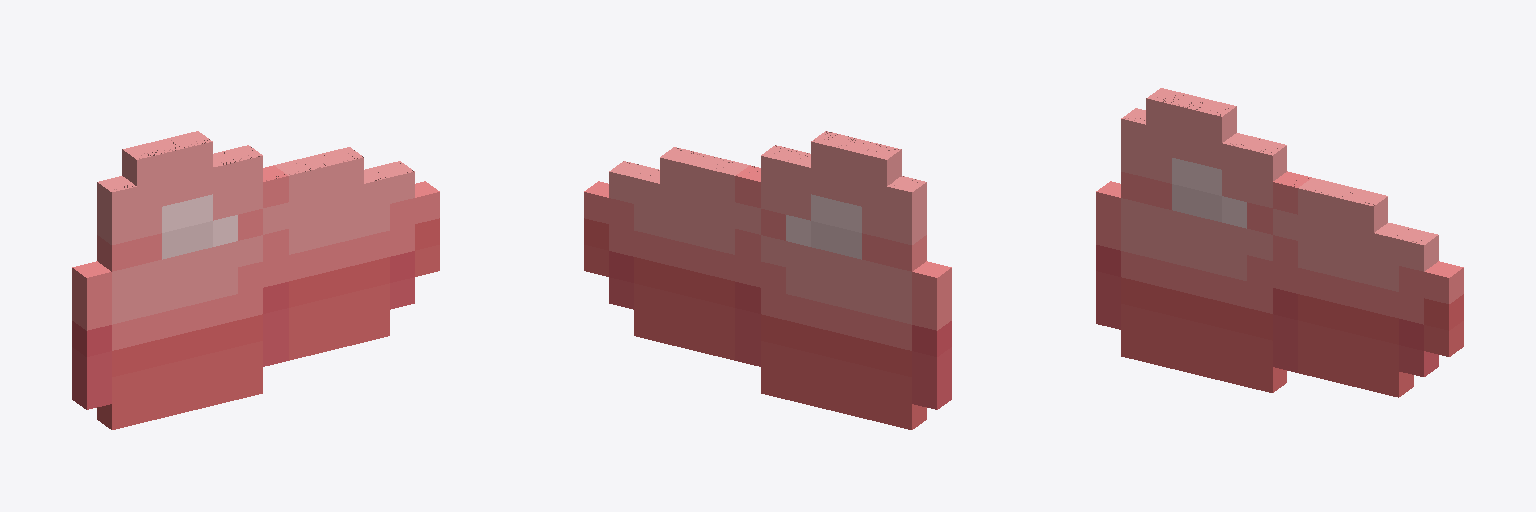
3 views of the same model, side by side, from view 1: azimuth 30°, elevation 25°; view 2: azimuth 150°, elevation 25°; view 3: azimuth 330°, elevation 25° (orthographic).
Size of the model in its own units: 0.875 by 0.625 by 0.0625.
Materials: 1 (1 with a texture image).